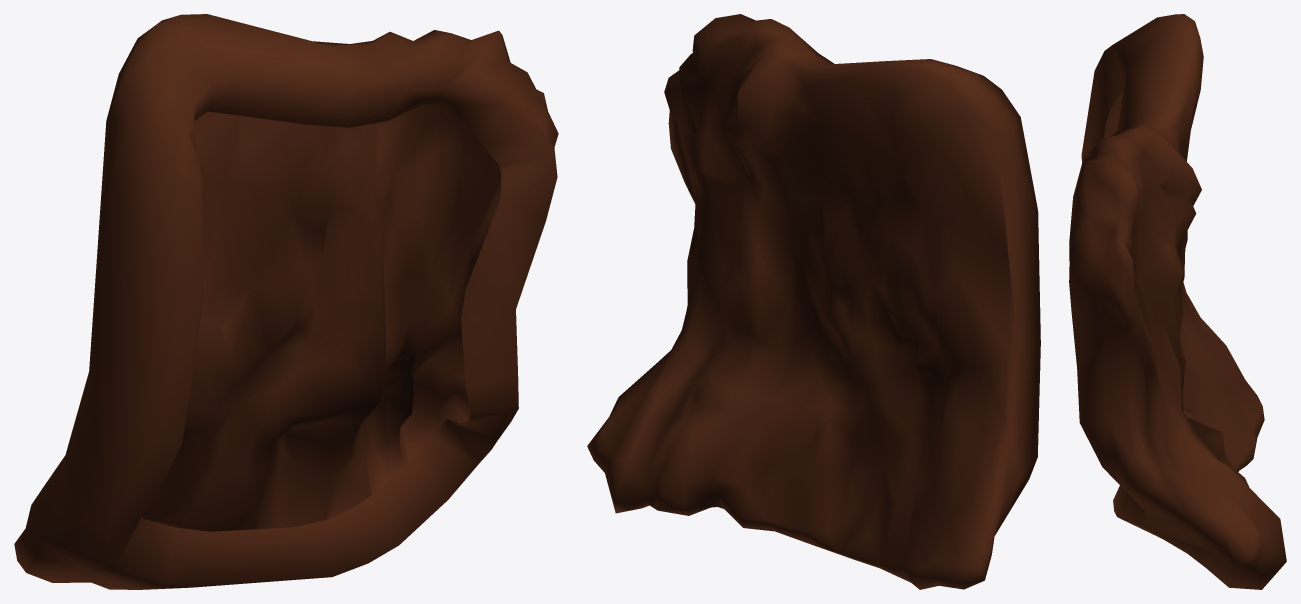
File: env_digsiterock_wall02_lod1.fbx
3 views of the same model, side by side, from view 1: azimuth 30°, elevation 25°; view 2: azimuth 150°, elevation 25°; view 3: azimuth 270°, elevation 25° (orthographic). The views are drawn at different scales.
Parts seen in each view (by area): view 1: env_digsiterock_wall02.004; view 2: env_digsiterock_wall02.004; view 3: env_digsiterock_wall02.004.
Boxes of the visible parts, x1,y1,x2,y2 form: env_digsiterock_wall02.004: (14, 14, 558, 589); env_digsiterock_wall02.004: (587, 14, 1040, 589); env_digsiterock_wall02.004: (1069, 14, 1286, 589).
Bounding box in the file's own units: 479 × 577 × 245.
